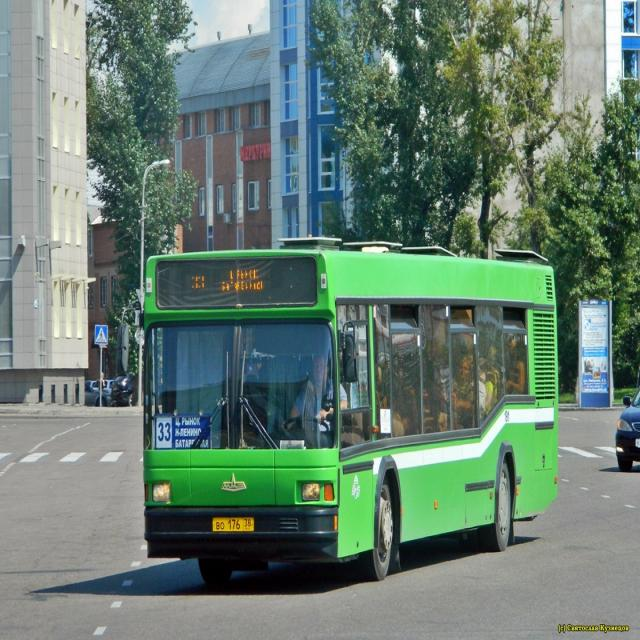number-of-bus: (158, 418, 172, 445)
